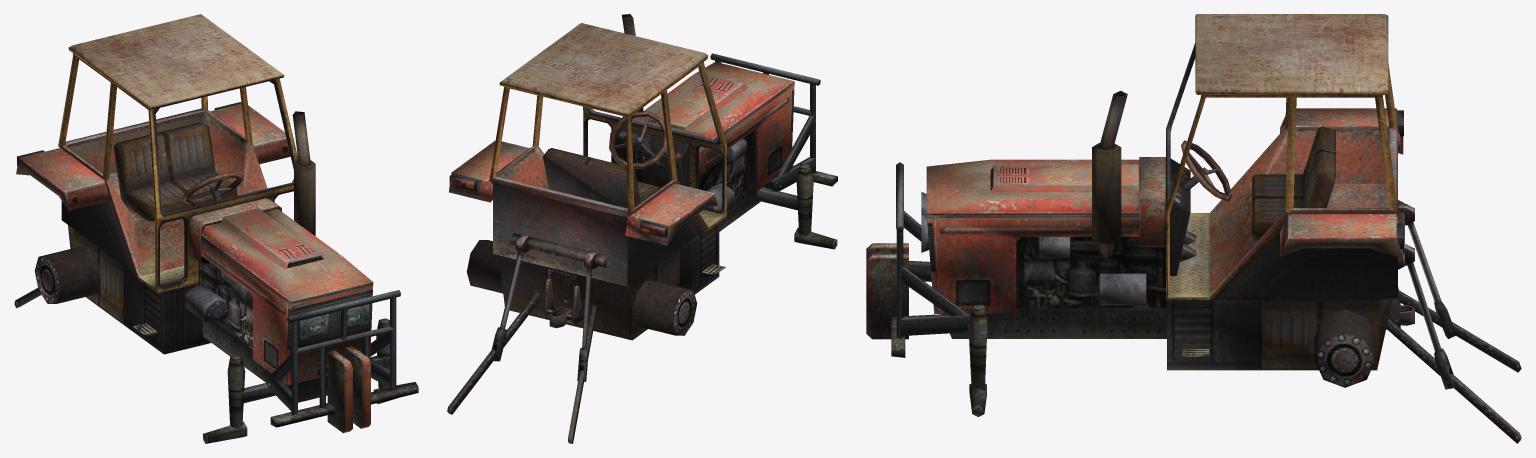
File: tractor_body.obj
The picture shows the model from 3 angles, left to right: view 1: azimuth 30°, elevation 25°; view 2: azimuth 150°, elevation 25°; view 3: azimuth 270°, elevation 25°; orthographic projection. The views are drawn at different scales.
Visible parts, largest first — view 1: tractor.039, tractor.004, tractor.041, tractor.025, tractor.001, tractor.003, tractor.016, tractor.002, tractor.026, tractor.057, tractor.035, tractor.021 (+17 smaller); view 2: tractor.004, tractor.039, tractor.041, tractor.001, tractor.002, tractor.003, tractor.025, tractor.016, tractor.017, tractor.026, tractor.031, tractor.051 (+14 smaller); view 3: tractor.039, tractor.004, tractor.041, tractor.001, tractor.035, tractor.025, tractor.026, tractor.002, tractor.032, tractor.056, tractor.021, tractor.016 (+13 smaller).
Part boxes in pixels (x1=…): tractor.039: x1=198, y1=208, x2=373, y2=385; tractor.004: x1=62, y1=54, x2=297, y2=293; tractor.041: x1=68, y1=14, x2=284, y2=109; tractor.025: x1=113, y1=122, x2=236, y2=220; tractor.001: x1=68, y1=225, x2=210, y2=354; tractor.003: x1=58, y1=53, x2=156, y2=293; tractor.016: x1=16, y1=148, x2=110, y2=210; tractor.002: x1=34, y1=246, x2=100, y2=303; tractor.026: x1=210, y1=103, x2=290, y2=164; tractor.057: x1=327, y1=350, x2=352, y2=433; tractor.035: x1=203, y1=320, x2=327, y2=402; tractor.021: x1=189, y1=198, x2=281, y2=265; tractor.004: x1=489, y1=64, x2=726, y2=286; tractor.039: x1=635, y1=62, x2=794, y2=198; tractor.041: x1=499, y1=23, x2=708, y2=116; tractor.001: x1=499, y1=223, x2=719, y2=340; tractor.002: x1=467, y1=240, x2=697, y2=335; tractor.003: x1=625, y1=62, x2=726, y2=285; tractor.025: x1=543, y1=148, x2=659, y2=208; tractor.016: x1=625, y1=184, x2=717, y2=245; tractor.017: x1=612, y1=127, x2=689, y2=187; tractor.026: x1=449, y1=140, x2=529, y2=202; tractor.031: x1=447, y1=292, x2=540, y2=414; tractor.051: x1=796, y1=164, x2=813, y2=235; tractor.039: x1=926, y1=159, x2=1166, y2=313; tractor.004: x1=1166, y1=43, x2=1397, y2=300; tractor.041: x1=1195, y1=14, x2=1388, y2=94; tractor.001: x1=1167, y1=298, x2=1392, y2=370; tractor.035: x1=941, y1=308, x2=1166, y2=338; tractor.025: x1=1252, y1=126, x2=1335, y2=240; tractor.026: x1=1280, y1=214, x2=1403, y2=258; tractor.002: x1=1314, y1=309, x2=1375, y2=387; tractor.032: x1=1092, y1=143, x2=1121, y2=243; tractor.056: x1=866, y1=253, x2=908, y2=339; tractor.021: x1=1139, y1=157, x2=1165, y2=247; tractor.016: x1=1280, y1=108, x2=1403, y2=154.
Size of the model in its own units: 4.04 by 5.19 by 8.65.
